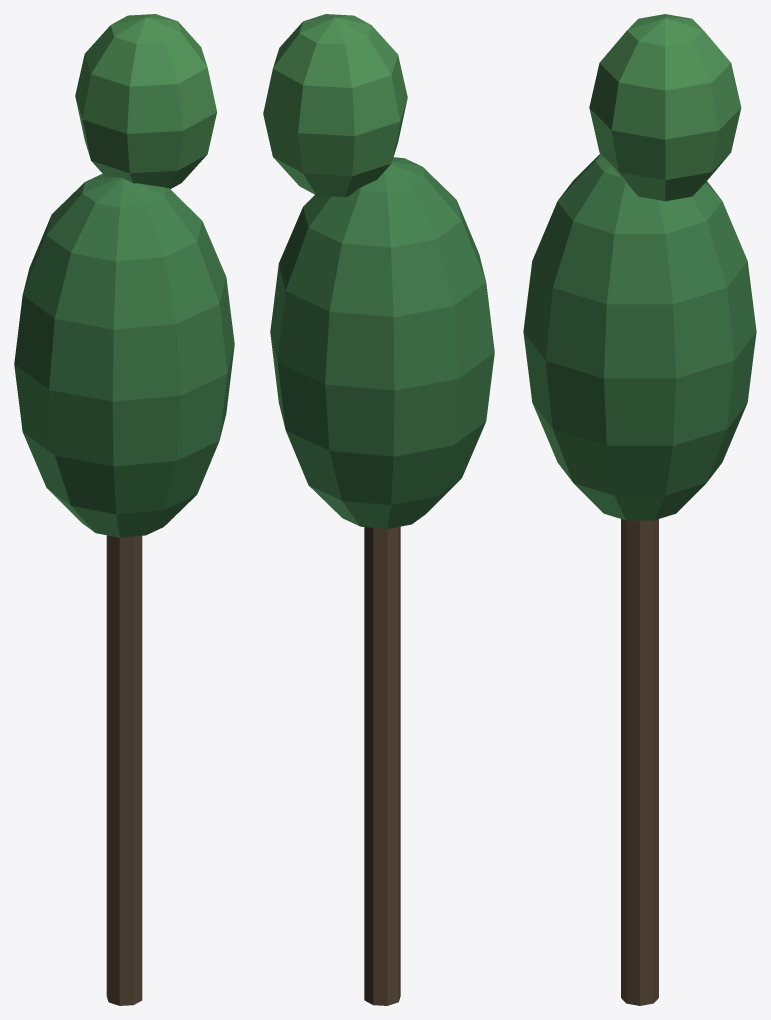
The model's file is tree_slim.glb.
The picture shows the model from 3 angles, left to right: view 1: azimuth 30°, elevation 25°; view 2: azimuth 150°, elevation 25°; view 3: azimuth 270°, elevation 25°; orthographic projection. The views are drawn at different scales.
Parts seen in each view (by area): view 1: tree_slim; view 2: tree_slim; view 3: tree_slim.
Part boxes in pixels (box(x1,y1,x2,y2)): tree_slim: box(14, 14, 234, 1005); tree_slim: box(263, 14, 494, 1005); tree_slim: box(523, 14, 756, 1005).
Size of the model in its own units: 0.8975 by 4.34 by 0.92.
